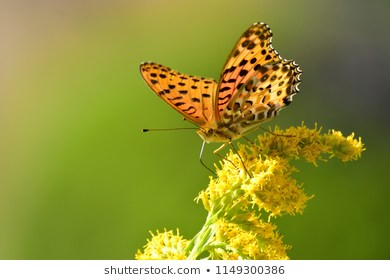Argyreus hyperbius: (128, 19, 302, 177)
butterfly: (130, 21, 304, 179)
